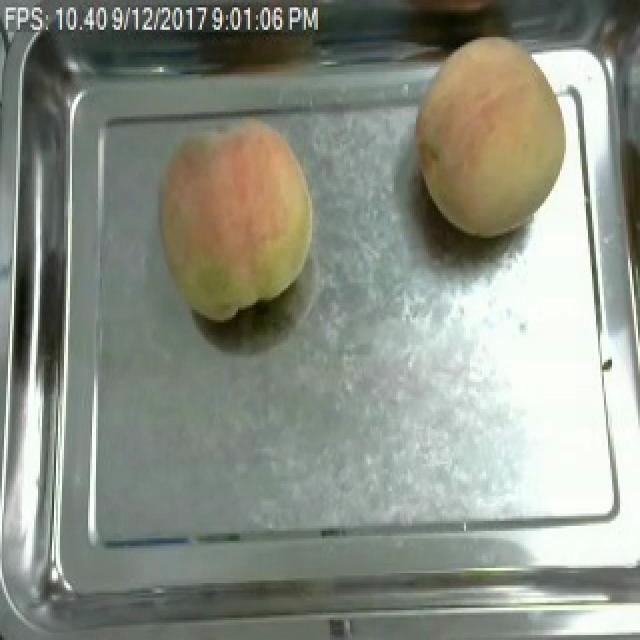Fruit: (404, 25, 580, 250), (150, 109, 324, 328)
